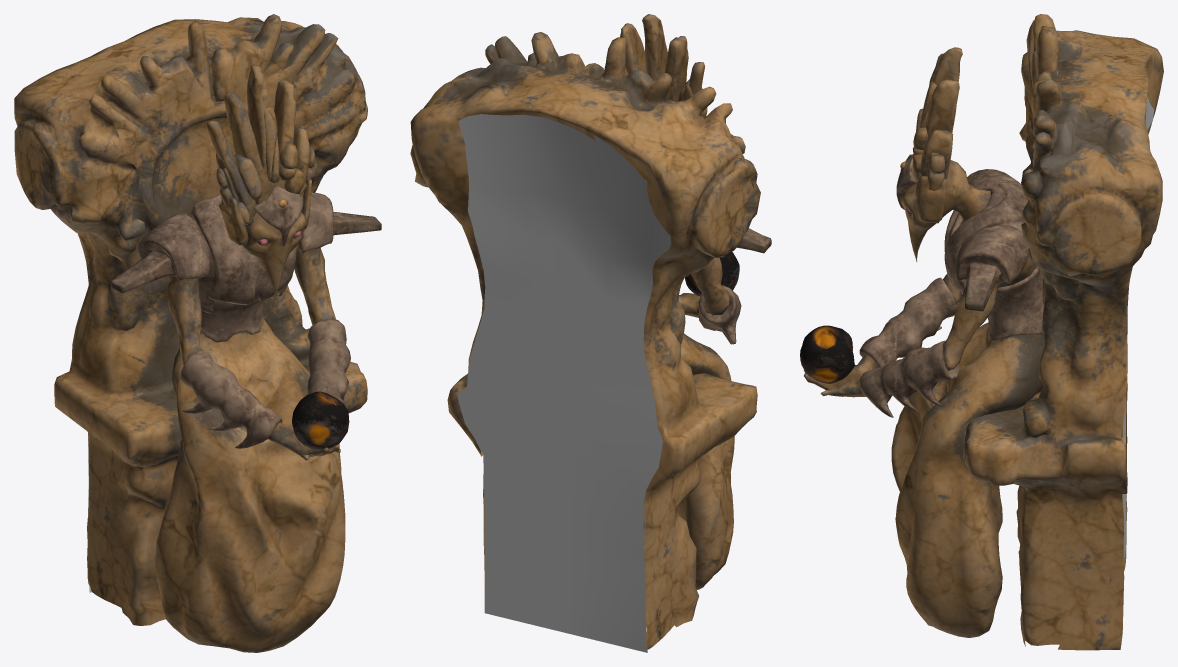
File: chozo export.fbx
The picture shows the model from 3 angles, left to right: view 1: azimuth 30°, elevation 25°; view 2: azimuth 150°, elevation 25°; view 3: azimuth 270°, elevation 25°; orthographic projection.
Parts seen in each view (by area): view 1: CHOZO1; view 2: pPlane2, CHOZO1; view 3: CHOZO1, pPlane2.
Boxes of the visible parts, <box> form: CHOZO1: <box>14,14,381,652</box>; pPlane2: <box>457,114,670,652</box>; CHOZO1: <box>410,14,771,650</box>; CHOZO1: <box>800,14,1163,650</box>; pPlane2: <box>1122,96,1154,563</box>.
Size of what is drawn, in the model's own units: 6.61 by 11.63 by 6.53.
